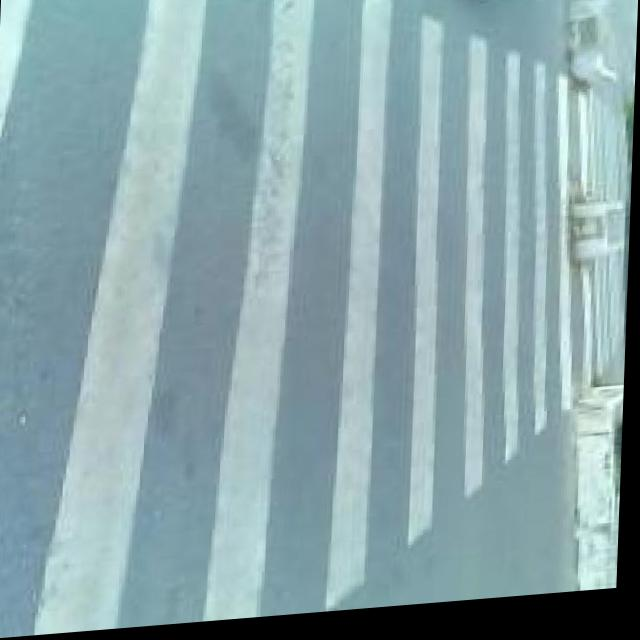zebra: (0, 64, 553, 471)
